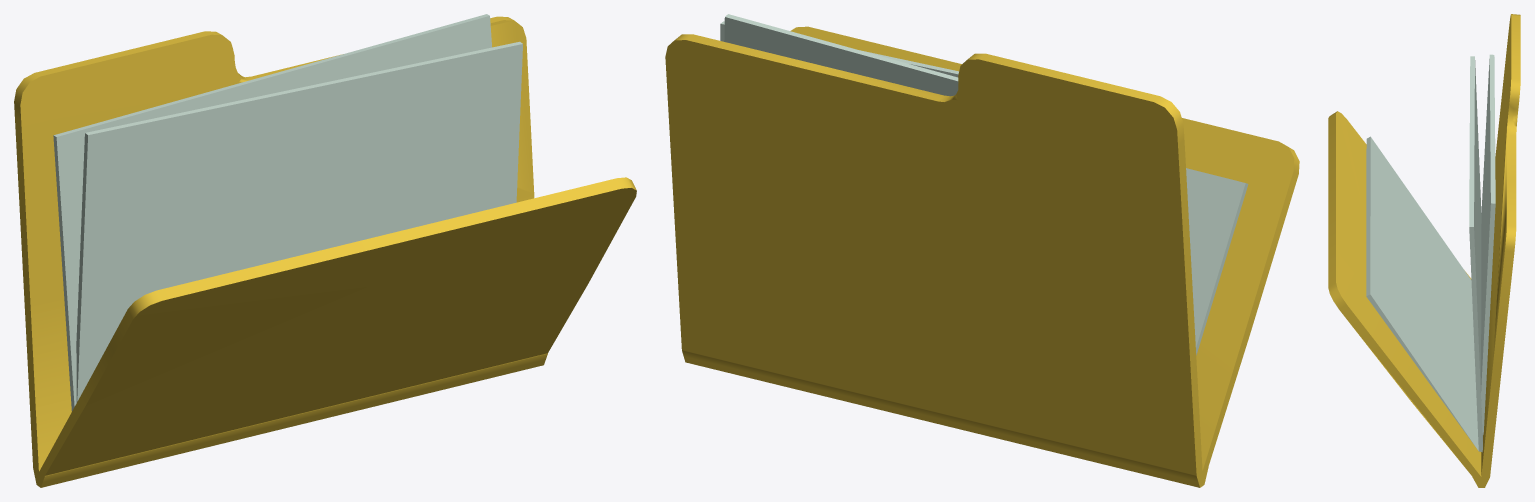
Rendered from folder_aero.glb.
3 views of the same model, side by side, from view 1: azimuth 30°, elevation 25°; view 2: azimuth 150°, elevation 25°; view 3: azimuth 270°, elevation 25° (orthographic). The views are drawn at different scales.
Visible parts, largest first — view 1: Object_36; view 2: Object_36; view 3: Object_36.
Boxes of the visible parts, x1,y1,x2,y2 form: Object_36: (14,14,636,487); Object_36: (665,14,1299,487); Object_36: (1328,14,1520,487).
Bounding box in the file's own units: 2.03 × 1.5 × 0.8901.
